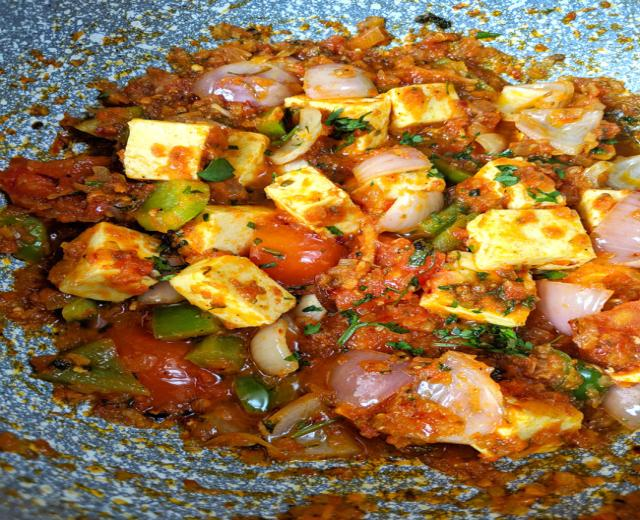kadai paneer: (3, 0, 620, 506), (1, 431, 164, 512), (471, 2, 631, 75), (32, 0, 192, 53), (228, 1, 392, 37), (0, 1, 95, 60), (3, 50, 80, 122)
